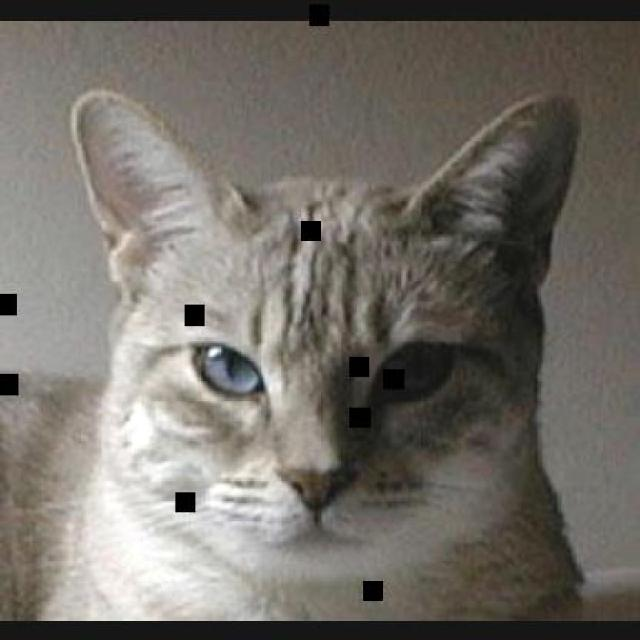unauthorized: (26, 85, 591, 620)
